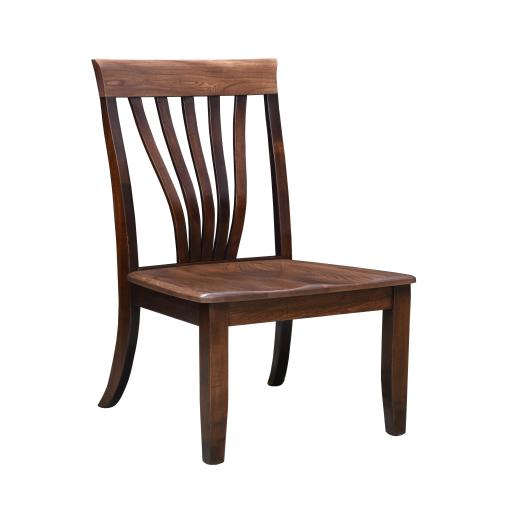chair: (72, 52, 442, 466)
